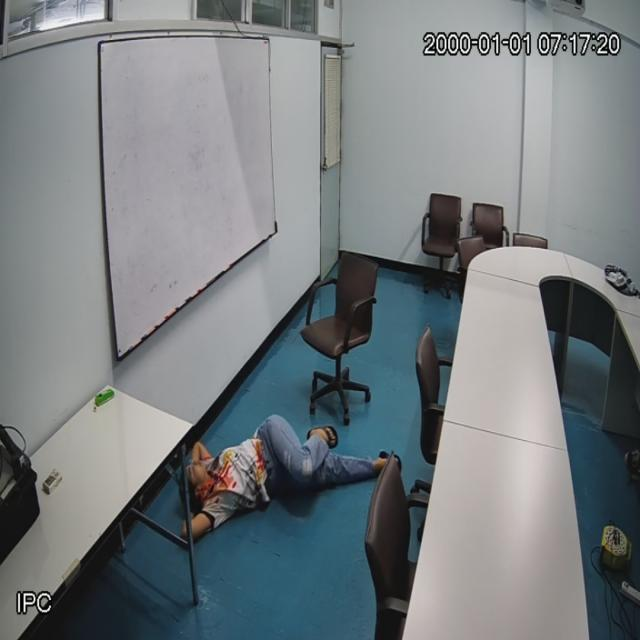fall: (163, 397, 394, 535)
